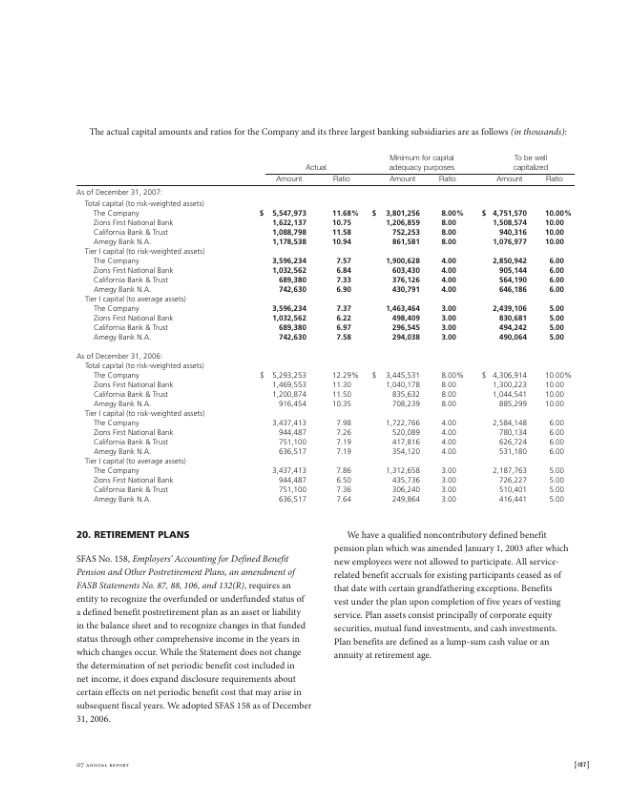table: (73, 150, 581, 520)
